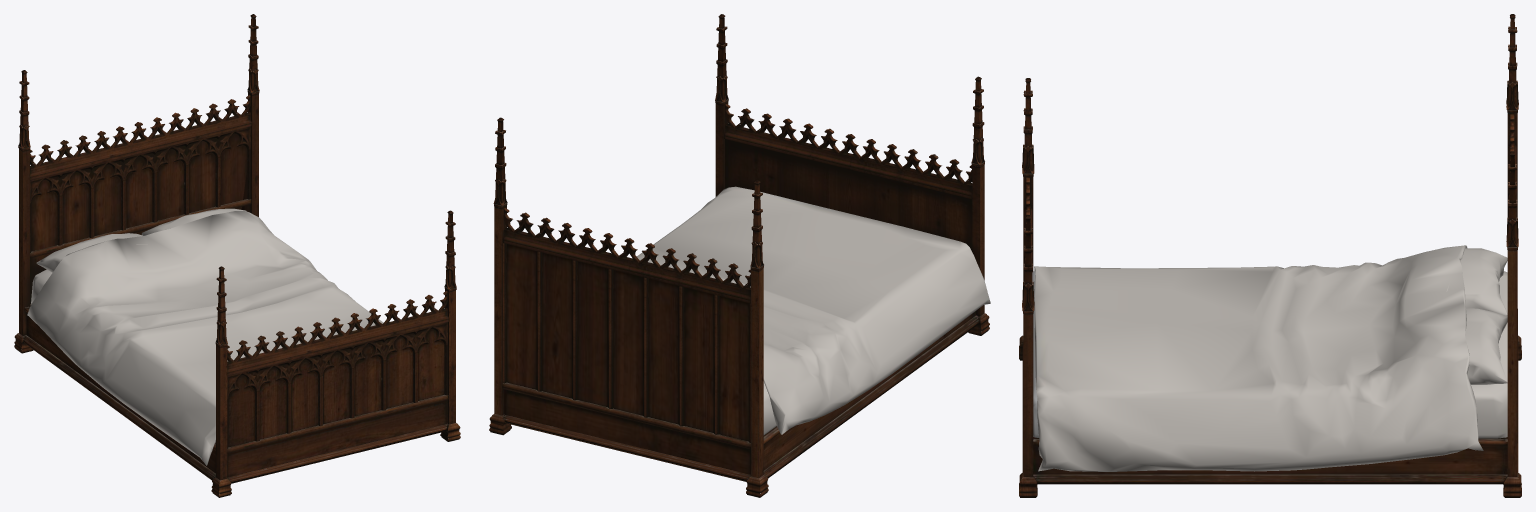
3 renders of one model, left to right at view 1: azimuth 30°, elevation 25°; view 2: azimuth 150°, elevation 25°; view 3: azimuth 270°, elevation 25°, orthographic. The views are drawn at different scales.
Parts seen in each view (by area): view 1: GothicBed_01; view 2: GothicBed_01; view 3: GothicBed_01.
Boxes of the visible parts, x1,y1,x2,y2 form: GothicBed_01: [14, 14, 460, 497]; GothicBed_01: [489, 14, 990, 497]; GothicBed_01: [1019, 14, 1521, 497].
Size of the model in its own units: 1.49 by 1.53 by 2.04.
Materials: 1 (1 with a texture image).
